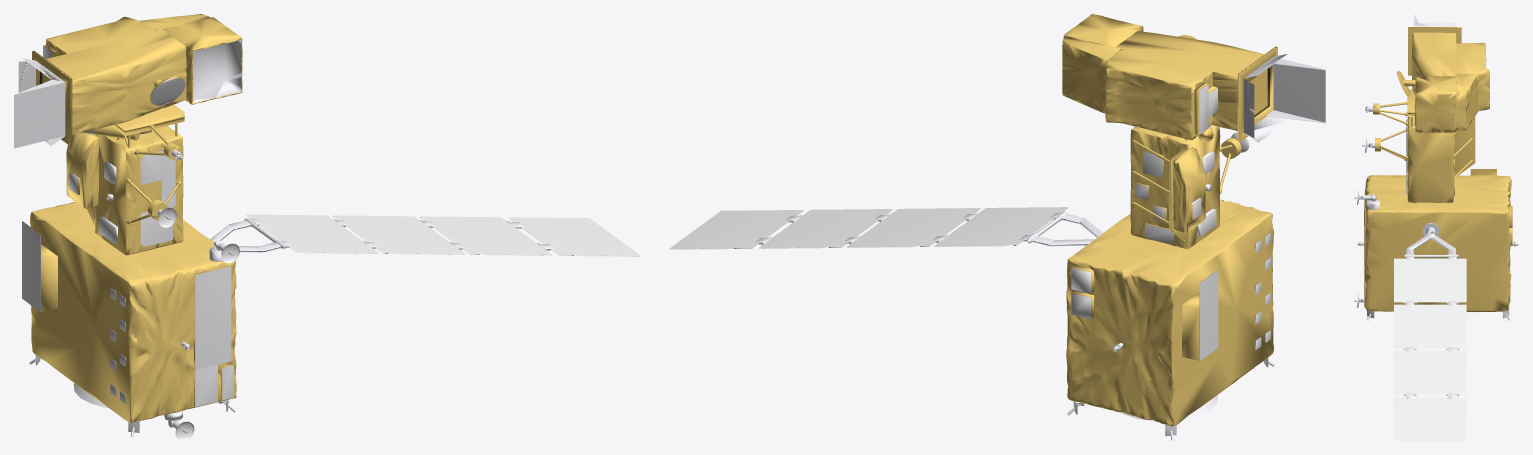
File: landsat.glb
3 renders of one model, left to right at view 1: azimuth 30°, elevation 25°; view 2: azimuth 150°, elevation 25°; view 3: azimuth 270°, elevation 25°, orthographic. The views are drawn at different scales.
Visible parts, largest first — view 1: external hardware, Solar Panel; view 2: external hardware, Solar Panel; view 3: external hardware, Solar Panel.
Part boxes in pixels (box(x1,y1,x2,y2)): external hardware: box(14, 14, 242, 440); Solar Panel: box(210, 214, 640, 256); external hardware: box(1062, 14, 1325, 440); Solar Panel: box(669, 207, 1102, 249); external hardware: box(1354, 14, 1518, 320); Solar Panel: box(1394, 223, 1466, 440).
Bounding box in the file's own units: 1.26 × 0.6957 × 0.4112.
4 materials, 4 textured.
